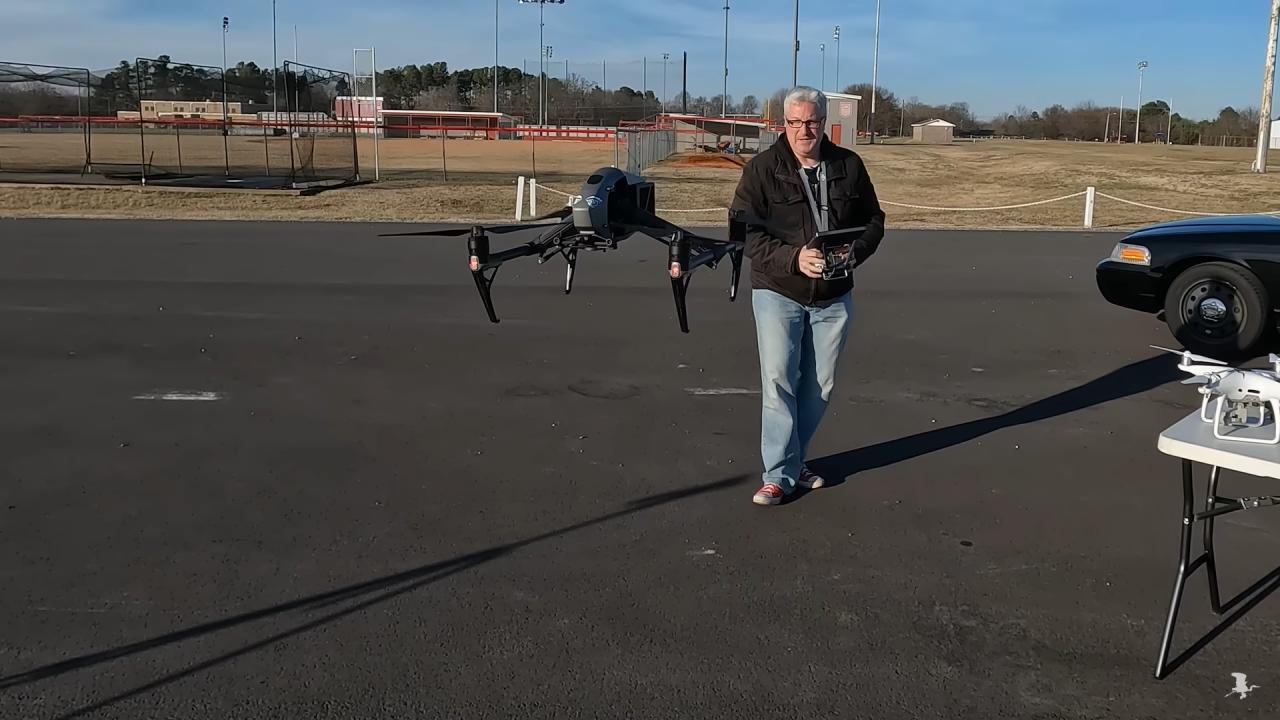Drone: (368, 150, 796, 342)
